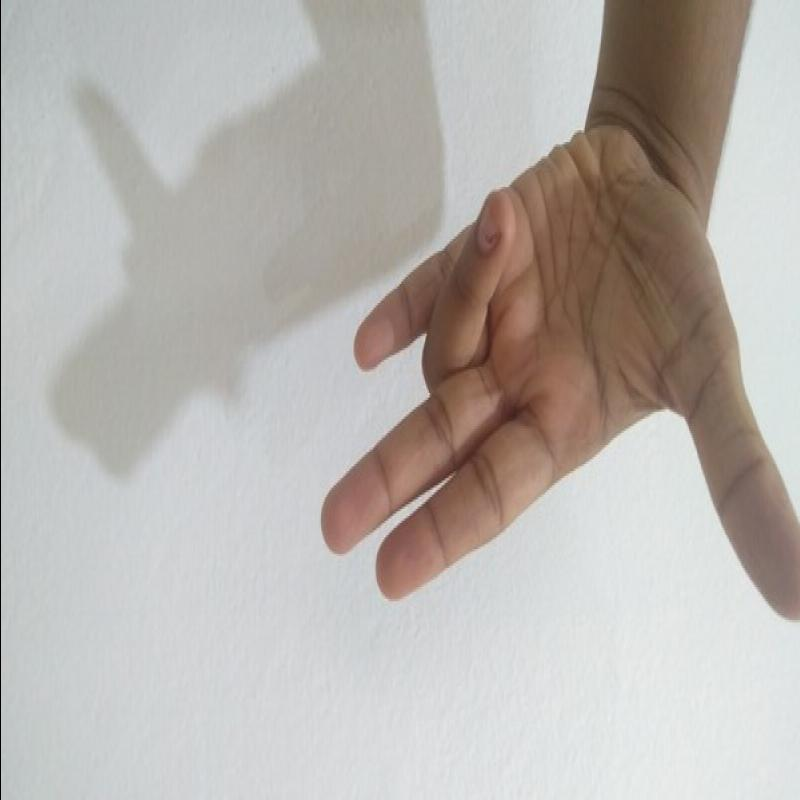Pathaaka: (296, 132, 800, 652)
